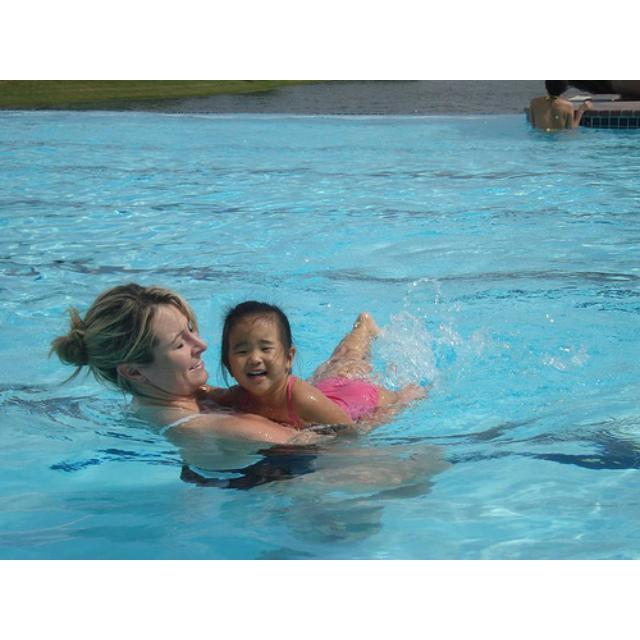human: (43, 282, 314, 470), (220, 302, 419, 430), (527, 84, 593, 139)
